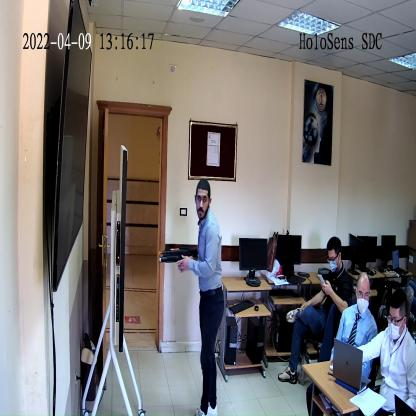handgun: (162, 249, 200, 266)
